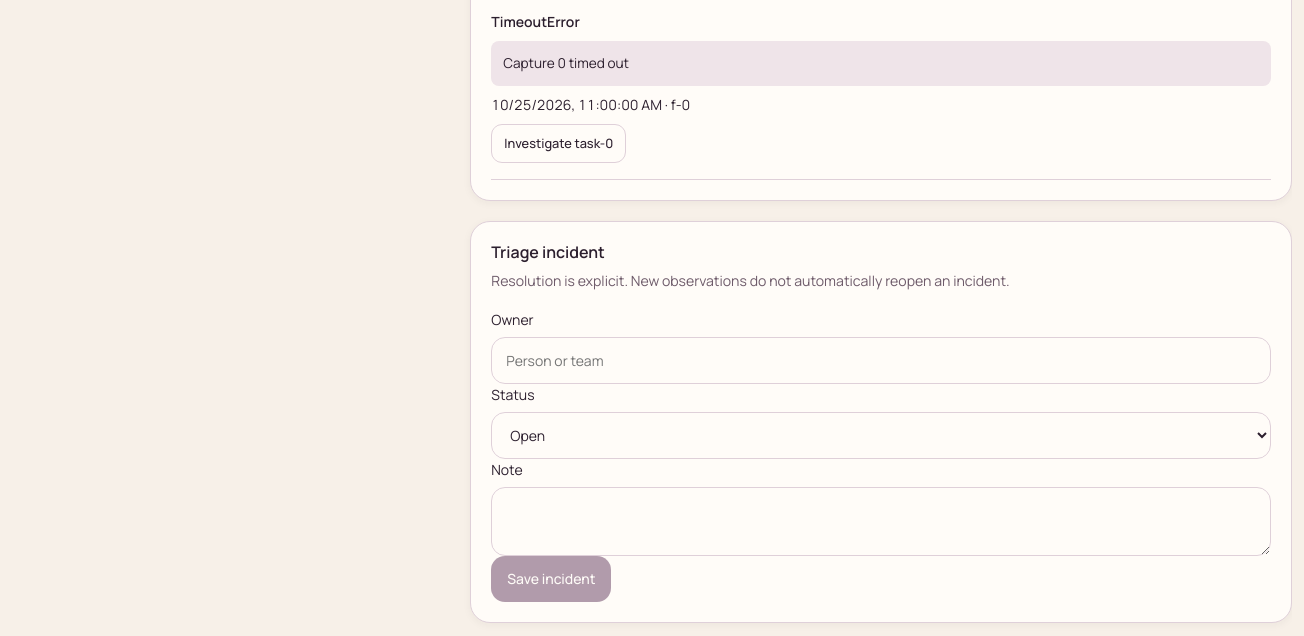
Test: Incident Inbox › saves owner, acknowledgement and a note with the displayed revision
(page scrolled)
Type "Payments team" into the field named "Incident owner" at (881, 360), box [491,337,1271,384]
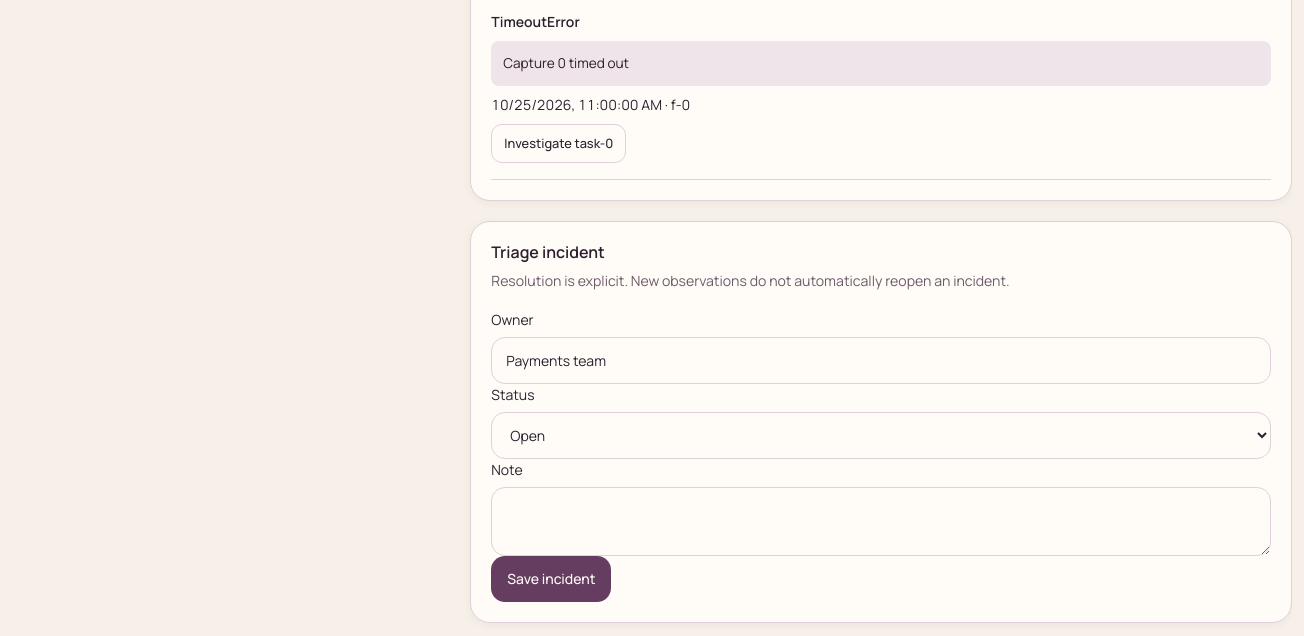
Select "Acknowledged" in the dropdown named "Incident lifecycle status" at (881, 436), box [491,412,1271,459]
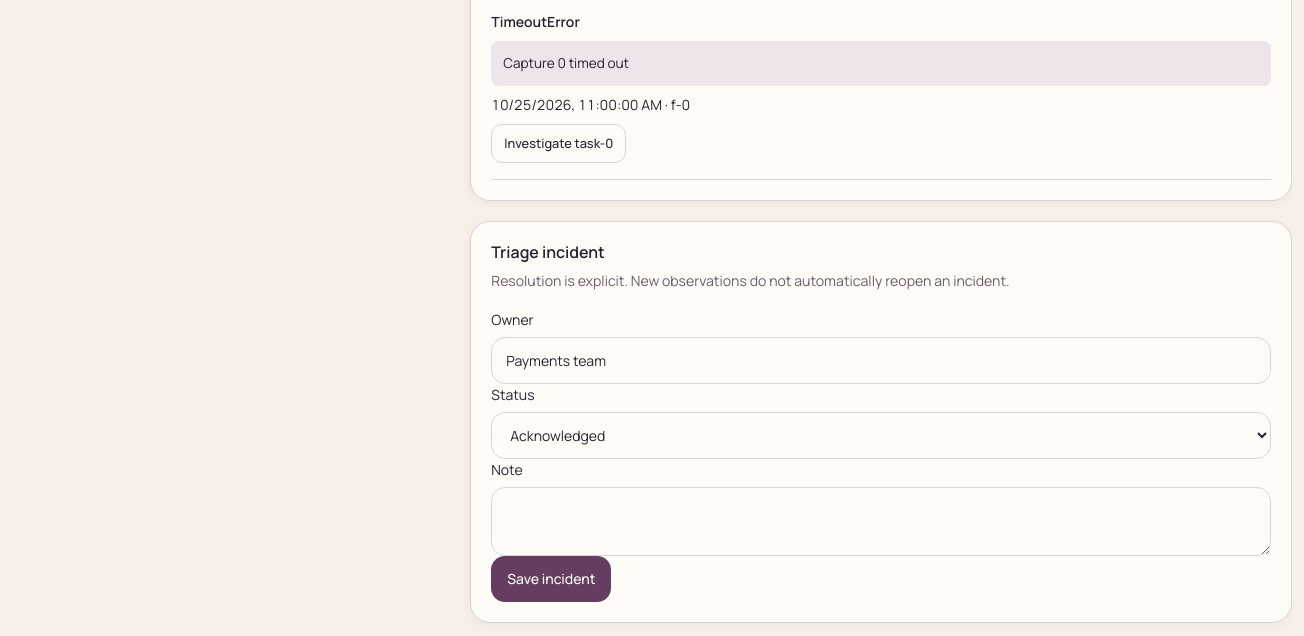
Type "Investigating upstream timeout" into the text box named "Incident note" at (881, 521), box [491,487,1271,556]
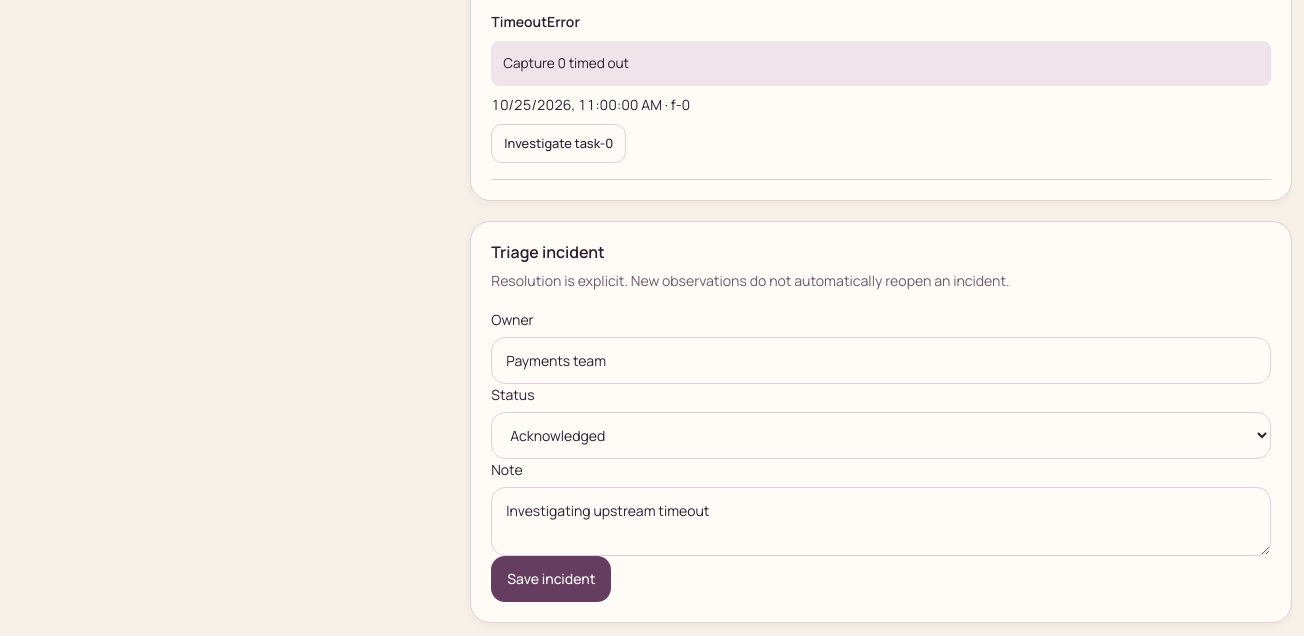
Click the button "Save incident" at (551, 579), box [491,556,612,602]
(page scrolled)
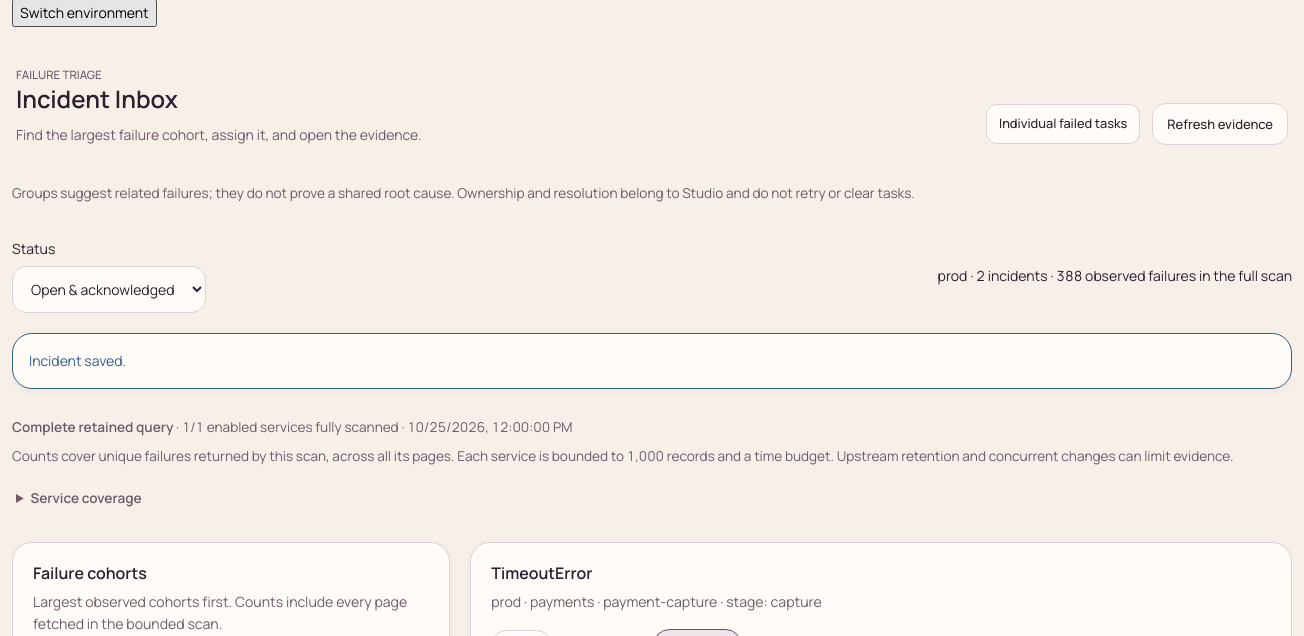
Result: the text "Incident saved." is shown at [12,333,1292,388]
